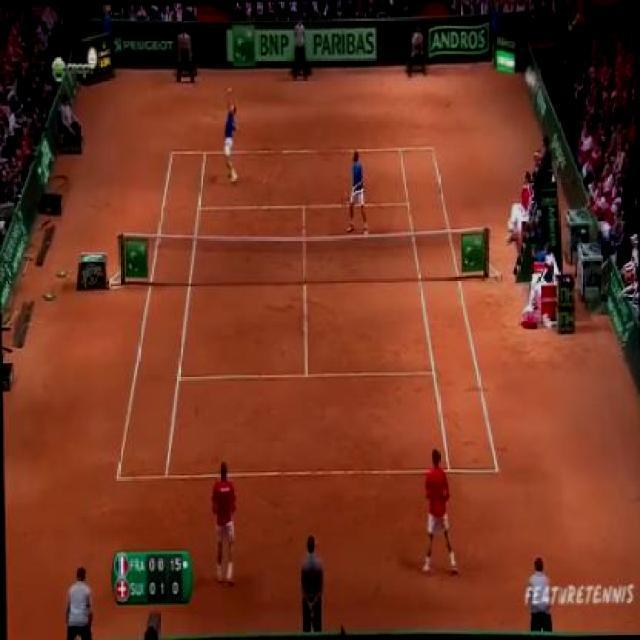non-fight: (417, 444, 455, 578), (208, 456, 240, 590), (216, 79, 242, 184), (340, 146, 369, 239)
